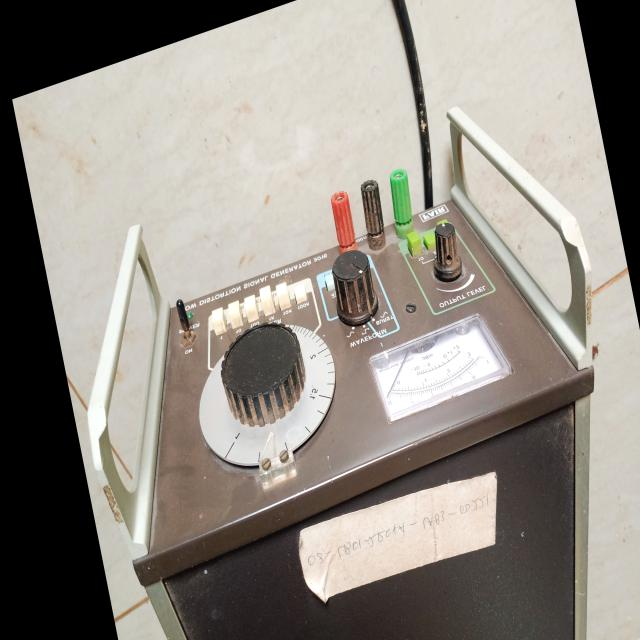Low Distortion Signal Generator: (43, 36, 640, 640)
